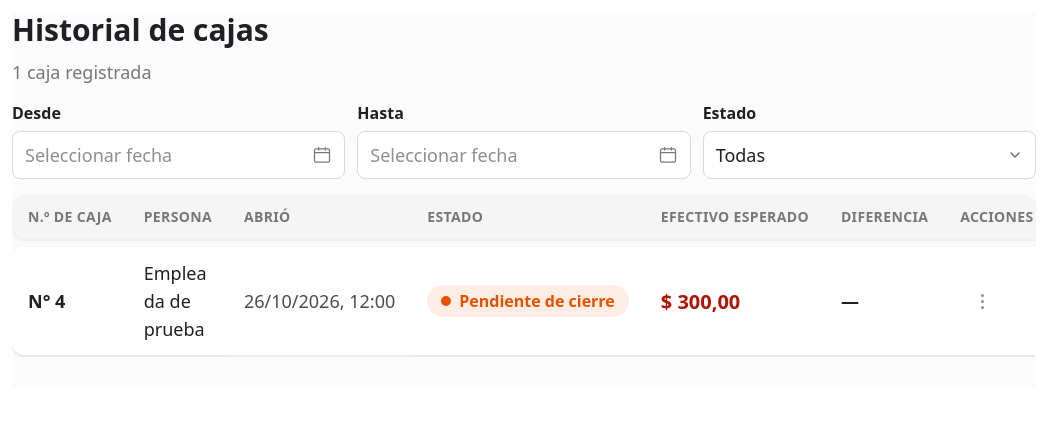
Test: CashHistoryPage › shows the count and filters by status, with a button to clear the filters
This screenshot has width=1048, height=421.
Expected: the text "1 caja registrada" is shown, [12, 60, 152, 84]
Expected: the button "Limpiar filtros" is not shown
Click the button named "Filtrar por estado".
click(740, 155)  # box [703, 131, 1036, 179]
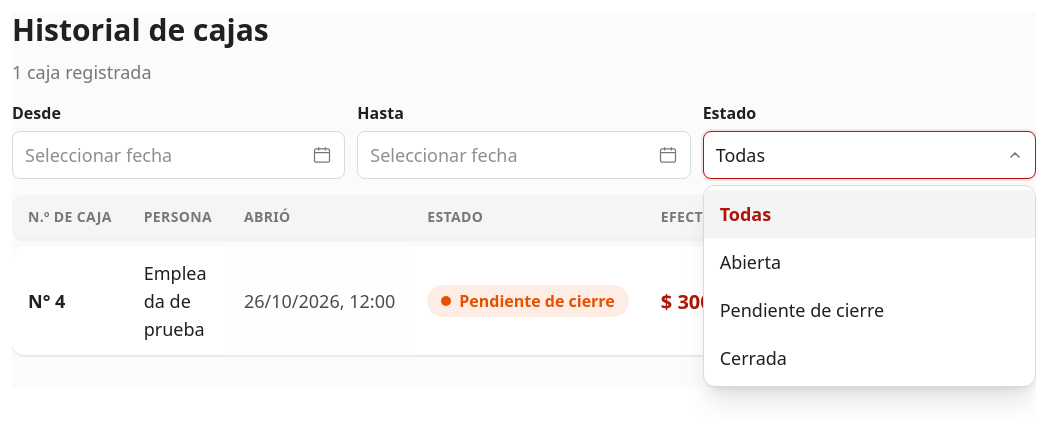
Click the option "Pendiente de cierre".
click(869, 310)  # box [704, 286, 1035, 334]
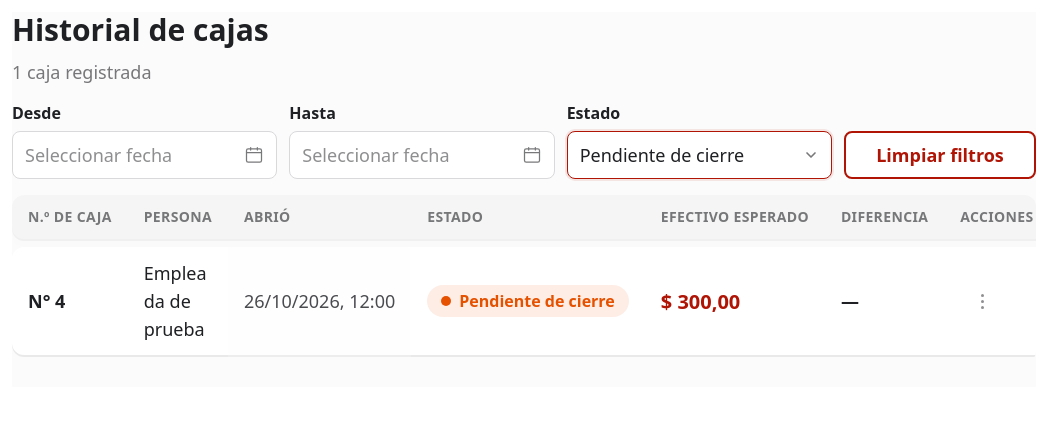
Click the button "Limpiar filtros".
click(940, 155)  # box [844, 131, 1036, 179]
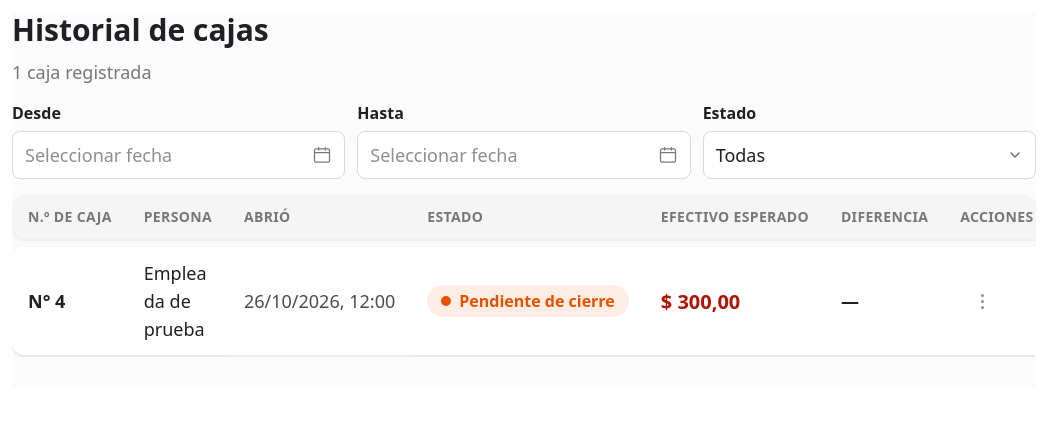
Now the button "Limpiar filtros" is gone
